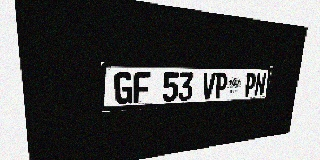3: (178, 72, 194, 101)
5: (162, 72, 179, 102)
F: (133, 72, 151, 103)
G: (114, 72, 133, 105)
N: (254, 73, 266, 96)
P: (214, 73, 228, 99), (243, 73, 256, 97)
V: (201, 73, 216, 99)
